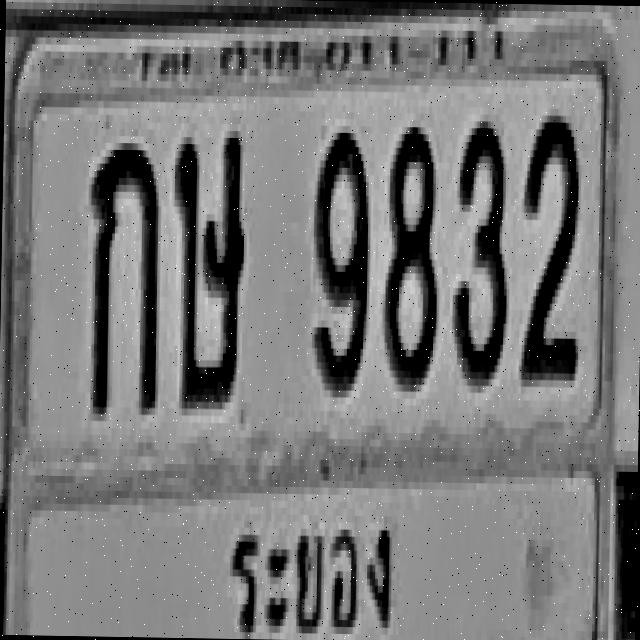10GorGai: (86, 135, 161, 415)
2: (520, 108, 580, 380)
3: (452, 114, 508, 386)
48SorRueSi: (170, 126, 246, 406)
8: (382, 120, 438, 384)
9: (310, 126, 370, 390)
Rayong: (225, 492, 394, 640)
